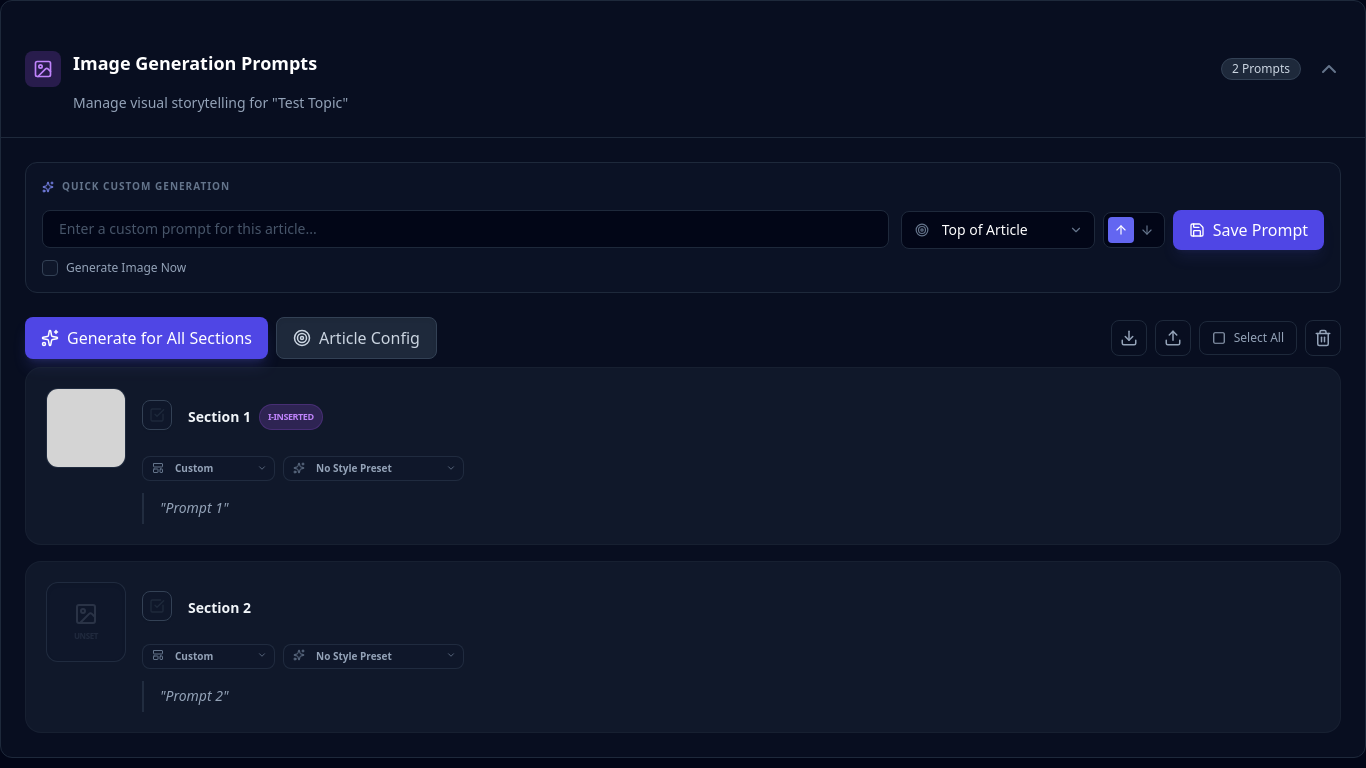
ImagePromptManager Smart Generation › Bulk Generation › shows choice modal during bulk generation if existing images are found
Note: Select all
Click the button "Select All": (1248, 338) [1199,321,1297,355]
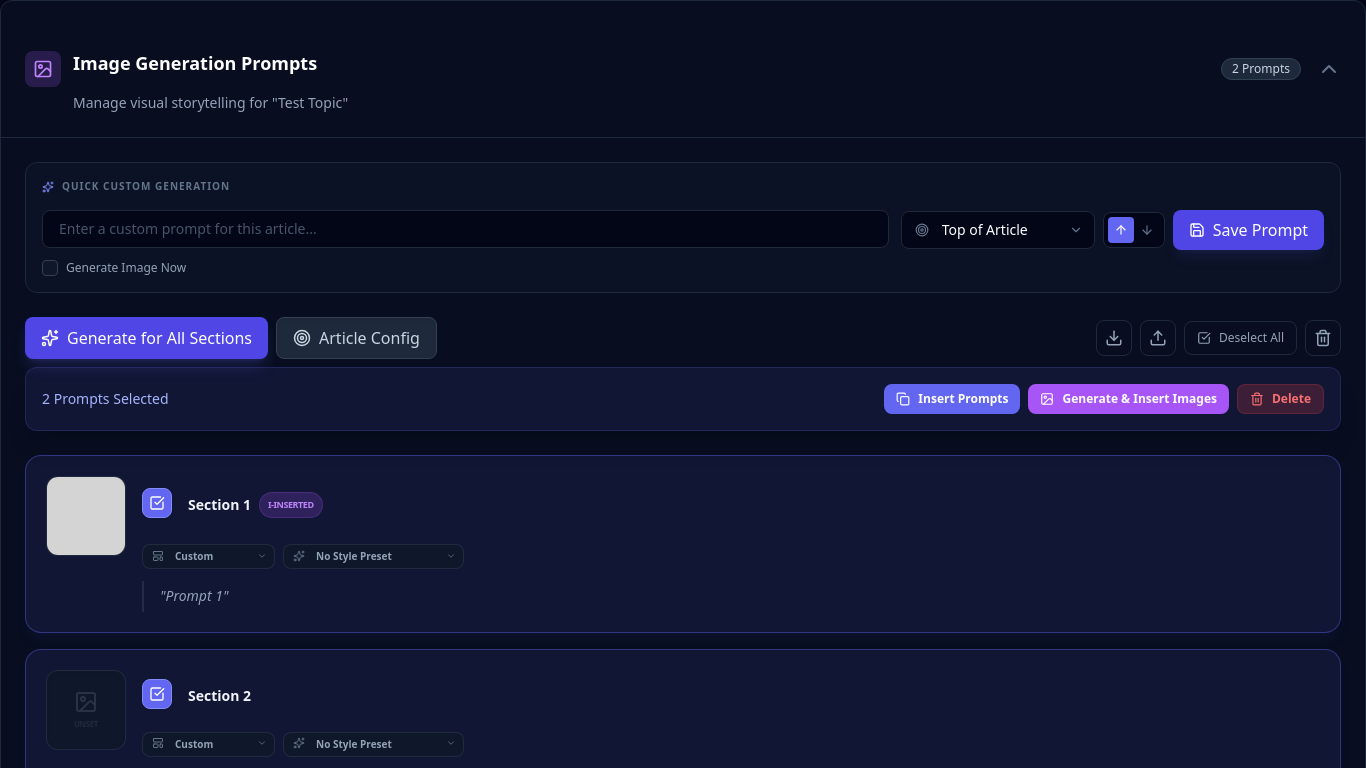
Note: Click "Generate & Insert Images"
Click the button "Generate & Insert Images": (1129, 399) [1028,384,1229,414]
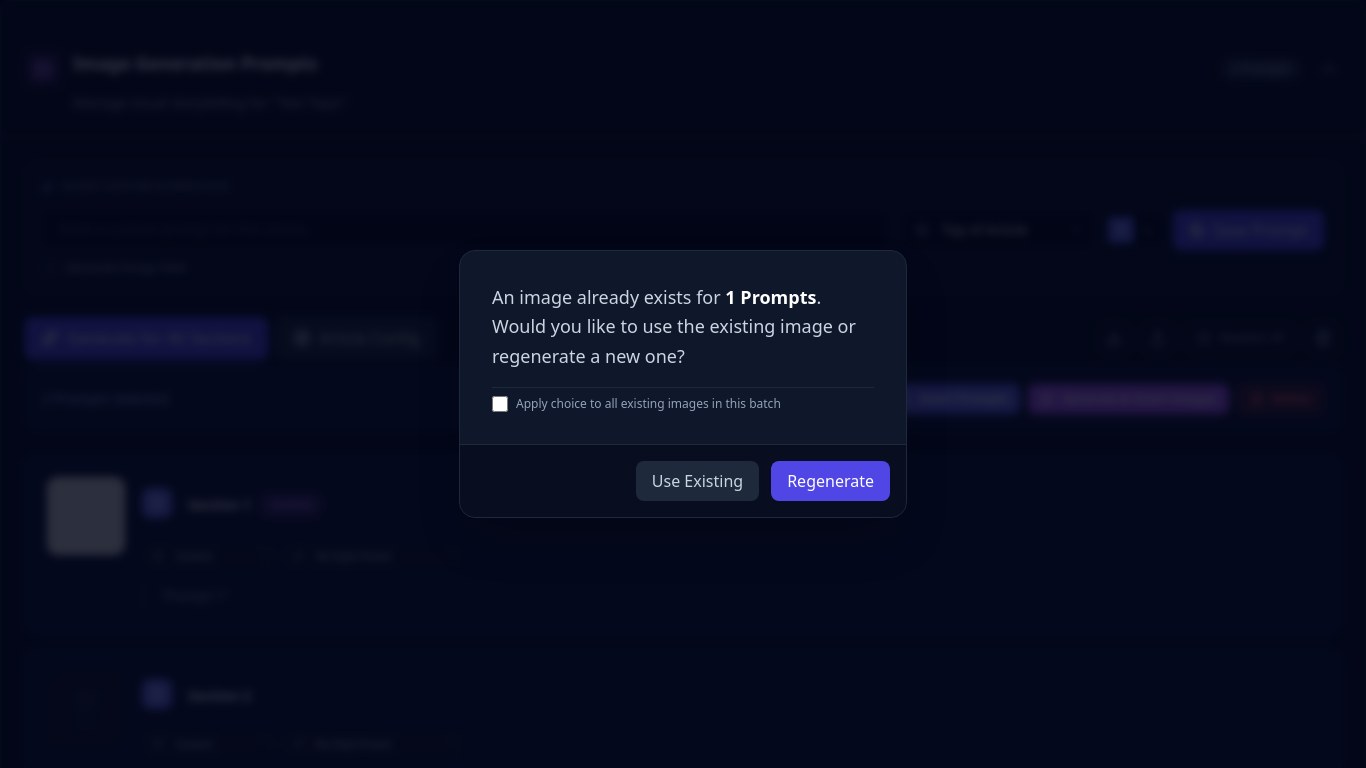
Now the text "An image already exists" is shown, box [492,285,725,309]
